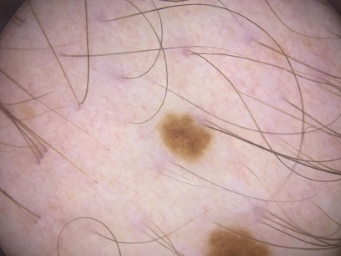melanoma: (161, 114, 211, 162), (208, 227, 271, 256)
